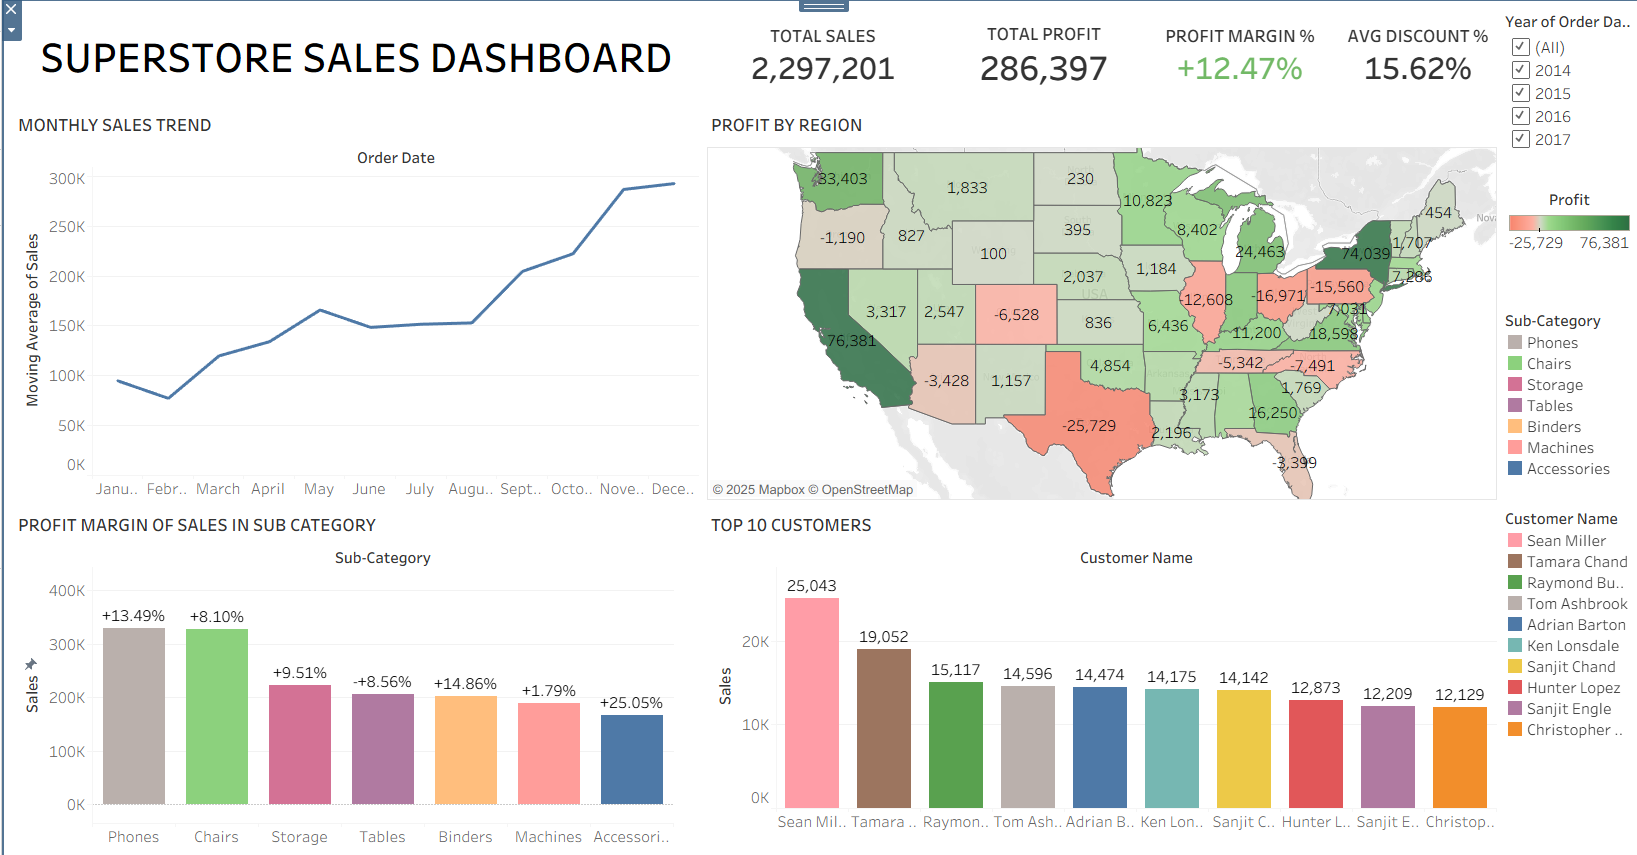

This screenshot's page, from the dashboard's own definition file:
{"tool":"tableau","page":{"name":"Dashboard 1","canvas":[1000,1000],"units":"permille","ordinal":0},"visuals":[{"type":"text","box":[4.9,9.3,421.5,112.7]},{"type":"worksheet","title":"Sheet 1","mark":"Automatic","box":[426.4,9.3,145.4,112.7]},{"type":"worksheet","title":"Sheet 6","mark":"Automatic","box":[571.8,9.3,123.5,112.7]},{"type":"worksheet","title":"Sheet 2","mark":"Automatic","box":[695.3,9.3,115,112.7]},{"type":"worksheet","title":"Sheet 3","mark":"Automatic","box":[810.2,9.3,101.6,112.7]},{"type":"filter","title":"Sheet 1","param":"[federated.1nu327e1l7vf6011zkuu91pzj4wi].[yr:Order Date:ok]","box":[911.8,9.3,83.3,206.7]},{"type":"worksheet","title":"Sheet 4","mark":"Automatic","rows":["Sales"],"cols":["Order Date"],"box":[4.9,122,421.3,464.6]},{"type":"worksheet","title":"Sheet 5","mark":"Multipolygon","box":[426.2,122,485.6,464.6]},{"type":"legend","title":"Sheet 5","param":"[federated.1nu327e1l7vf6011zkuu91pzj4wi].[sum:Profit:qk]","box":[911.8,216,83.3,140.5]},{"type":"legend","title":"Sheet 7","param":"[federated.1nu327e1l7vf6011zkuu91pzj4wi].[none:Sub-Category:nk]","box":[911.8,356.6,83.3,230]},{"type":"worksheet","title":"Sheet 7","mark":"Automatic","rows":["Sales"],"cols":["Sub-Category"],"box":[4.9,586.5,421.3,404.2]},{"type":"worksheet","title":"Sheet 8","mark":"Automatic","rows":["Sales"],"cols":["Customer Name"],"box":[426.2,586.5,485.6,404.2]},{"type":"legend","title":"Sheet 8","param":"[federated.1nu327e1l7vf6011zkuu91pzj4wi].[none:Customer Name:nk]","box":[911.8,586.5,83.3,404.2]}]}

Visuals, with their boxes on the dashboard's canvas, which has no fixed pixel size, in thousandths of its width and height (x1, y1, x2, y2). These are canvas units, not pixel positions in the 1637x855 screenshot, which may show the page scaled, cropped or inside an application window:
text: 5/9/426/122
"Sheet 1" worksheet: 426/9/572/122
"Sheet 6" worksheet: 572/9/695/122
"Sheet 2" worksheet: 695/9/810/122
"Sheet 3" worksheet: 810/9/912/122
"Sheet 1" filter: 912/9/995/216
"Sheet 4" worksheet: 5/122/426/587
"Sheet 5" worksheet (Multipolygon marks): 426/122/912/587
"Sheet 5" legend: 912/216/995/356
"Sheet 7" legend: 912/357/995/587
"Sheet 7" worksheet: 5/586/426/991
"Sheet 8" worksheet: 426/586/912/991
"Sheet 8" legend: 912/586/995/991
